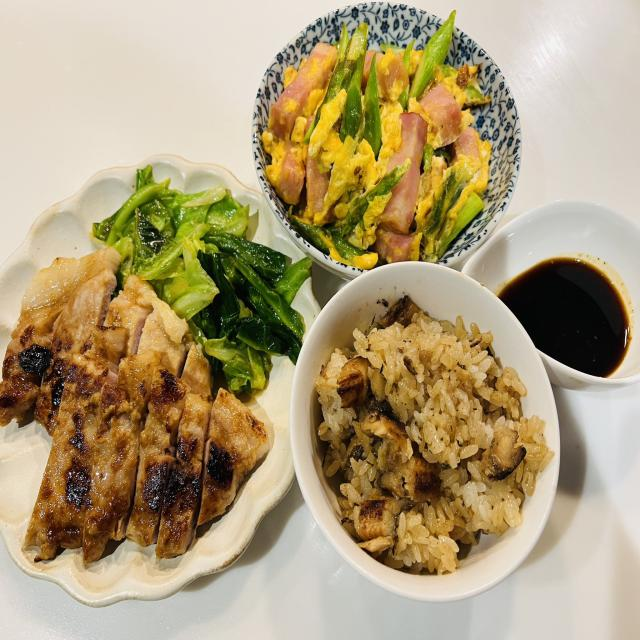overcooked pork: (19, 335, 129, 566), (0, 245, 126, 427), (80, 351, 155, 576), (28, 266, 113, 430), (199, 384, 284, 538), (123, 373, 193, 552), (152, 395, 212, 571)
